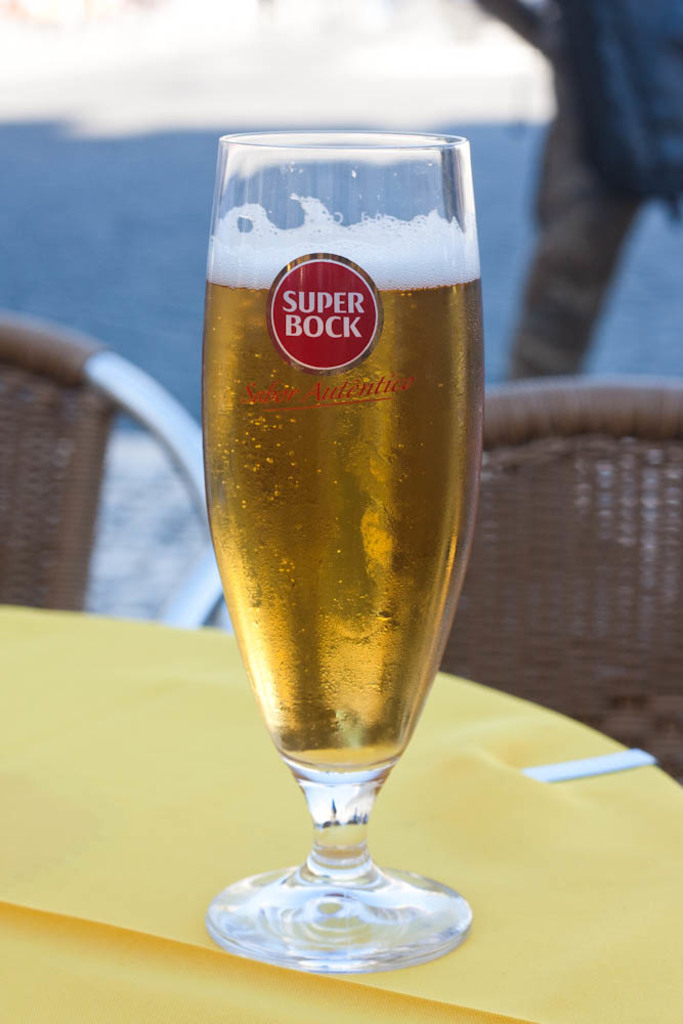Beer: (200, 219, 487, 763)
